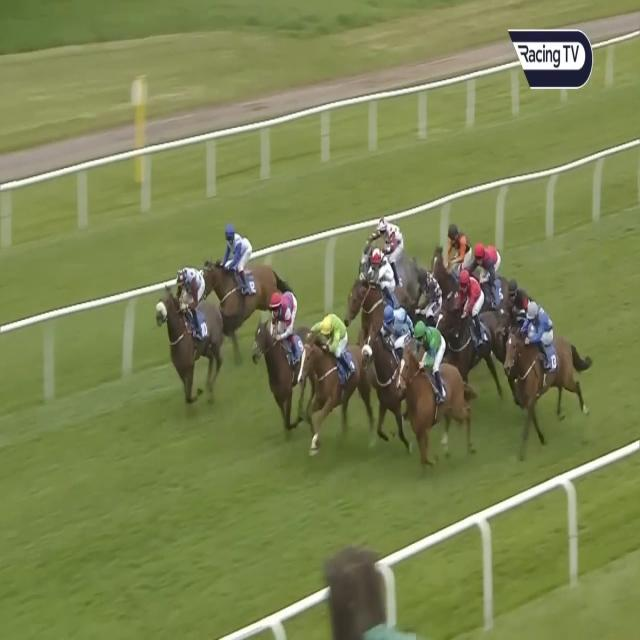horses-racing: (400, 323, 470, 472), (503, 303, 566, 462), (156, 262, 222, 388), (300, 312, 363, 444), (207, 217, 278, 321), (252, 281, 300, 411), (360, 297, 412, 412), (447, 265, 496, 360), (355, 214, 419, 274), (348, 254, 410, 308), (474, 235, 509, 305), (439, 262, 487, 310), (411, 264, 445, 326), (433, 221, 473, 273), (500, 273, 540, 324)
